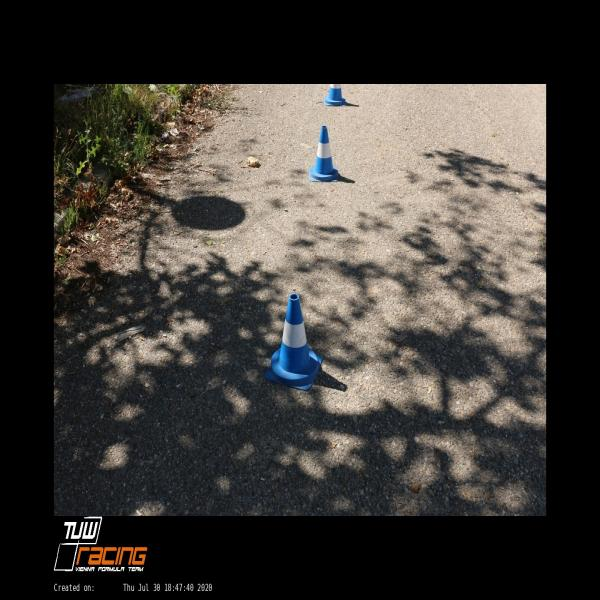blue_cone: (266, 294, 324, 390), (309, 126, 338, 182), (324, 84, 346, 105)
